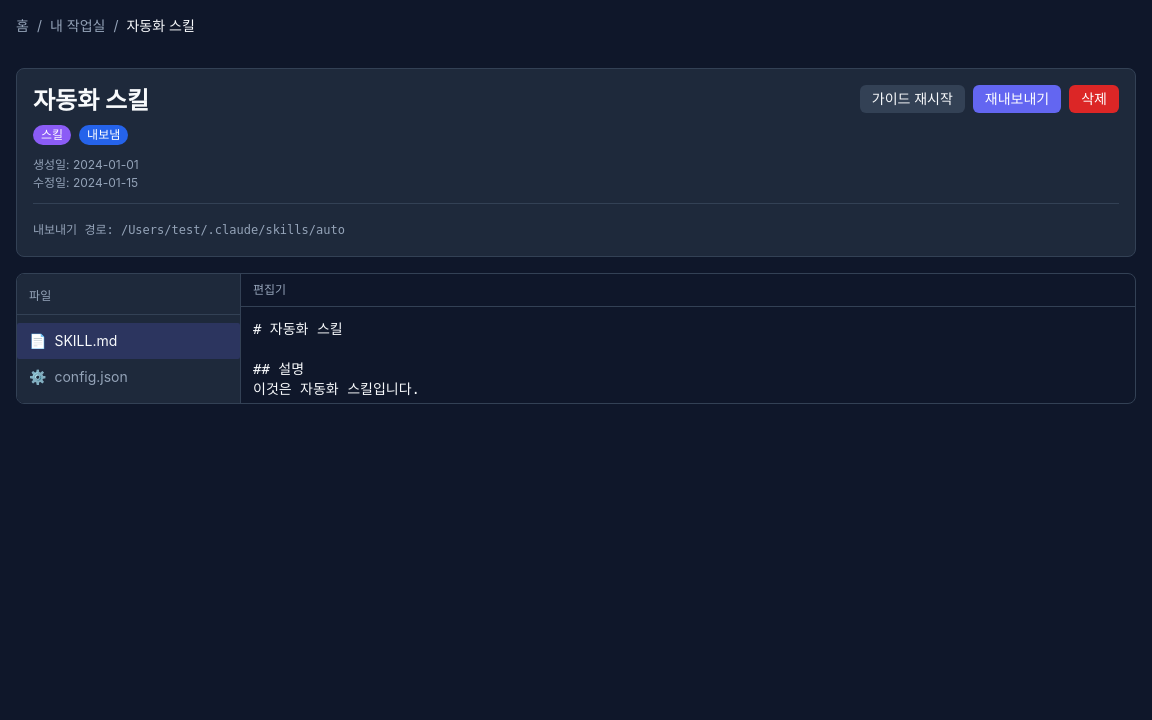
Test: WorkDetail Integration › 시나리오 3: 재내보내기 › 재내보내기 실패 시 에러 토스트를 표시한다
Click the button "재내보내기": (1017,99) [973, 85, 1061, 113]
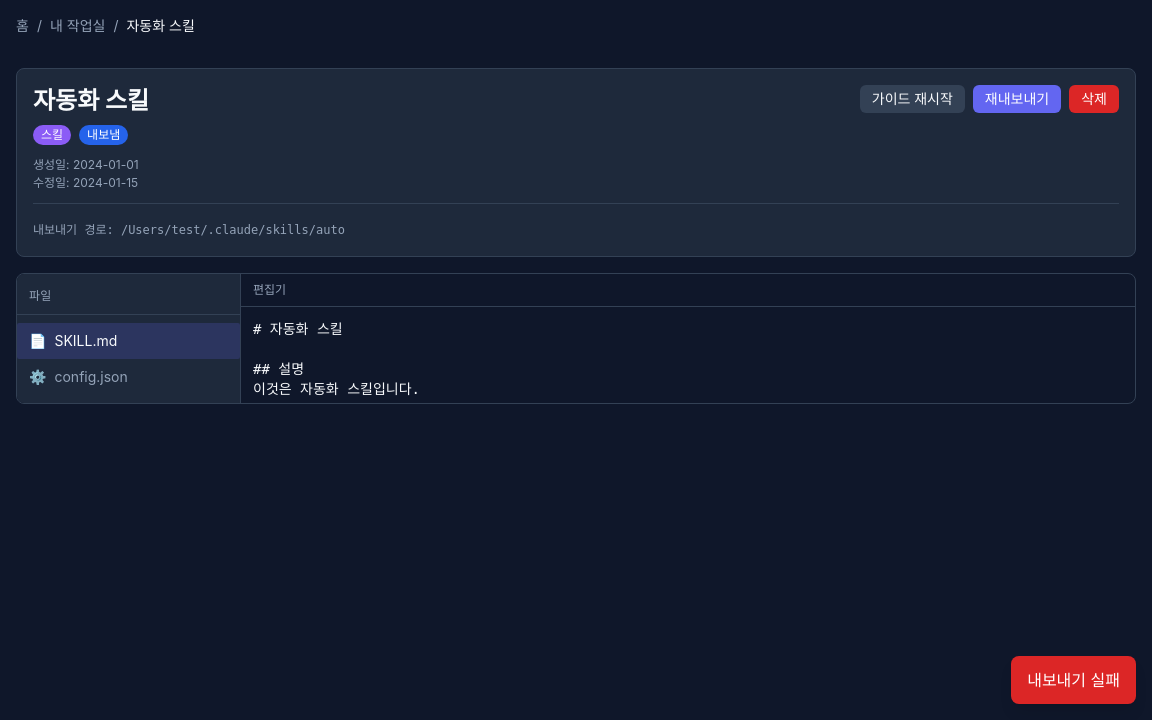
Expected: the message "내보내기 실패" is shown, [1011, 656, 1136, 704]
